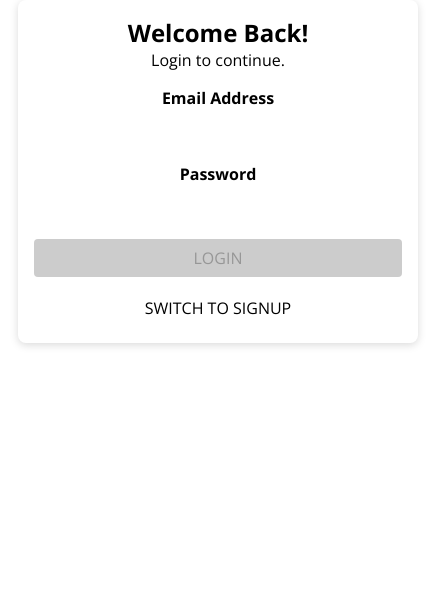
Scenario: Auth page › switches to signup mode when switch button is clicked
Step 1. Click the button "SWITCH TO SIGNUP" → [218, 308], box [34,289,402,327]
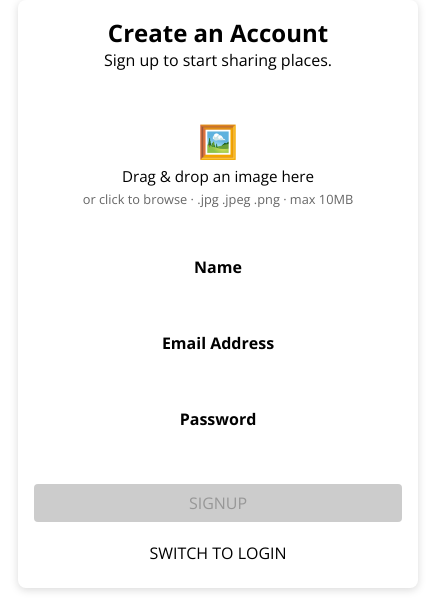
Expected: the heading "Create an Account" is shown, [108,16,328,49]
Expected: the button "SIGNUP" is shown, [34,484,402,522]
